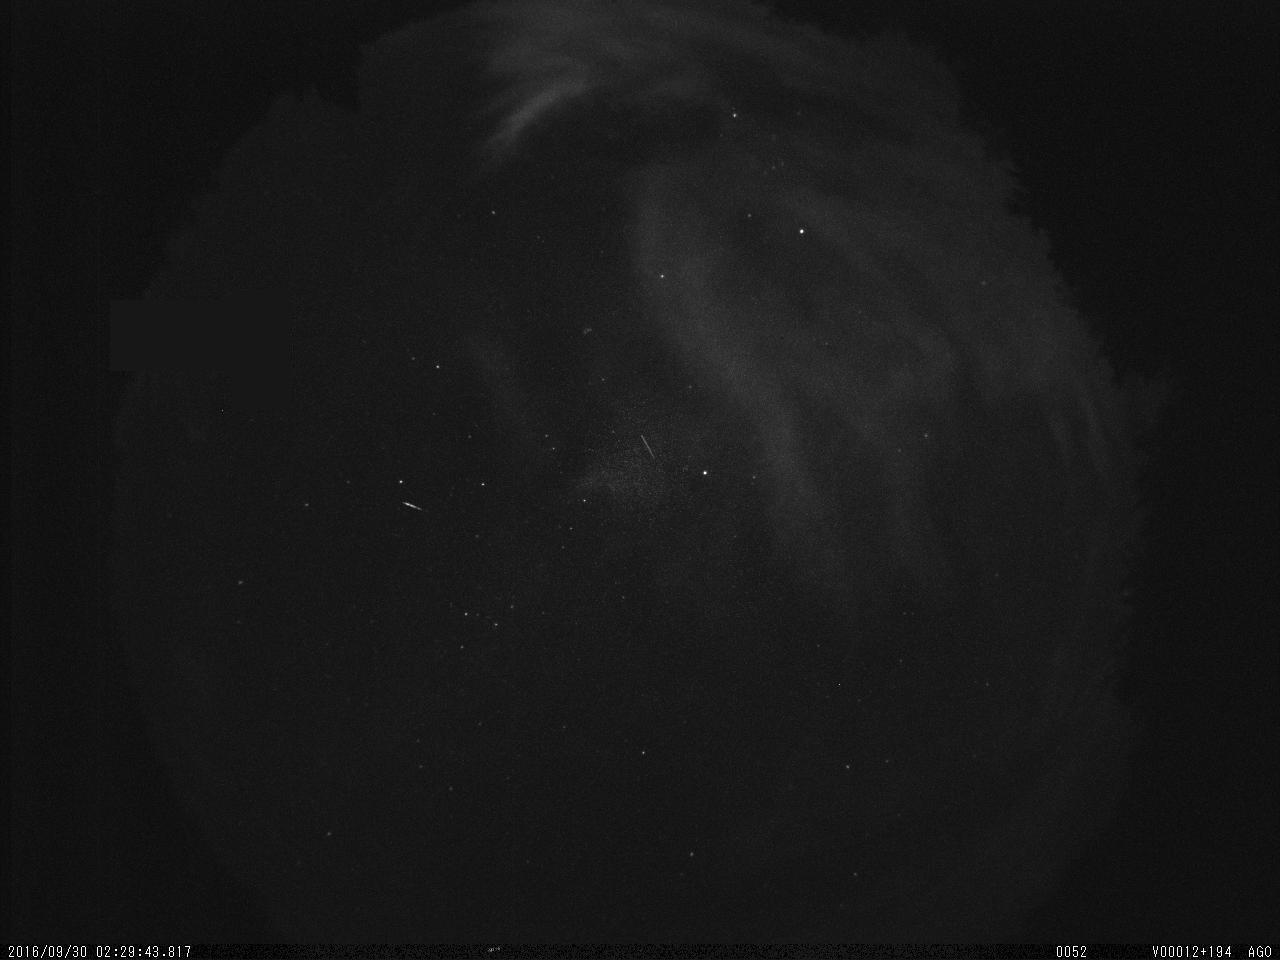meteor: (635, 433, 662, 468), (398, 497, 428, 516)
